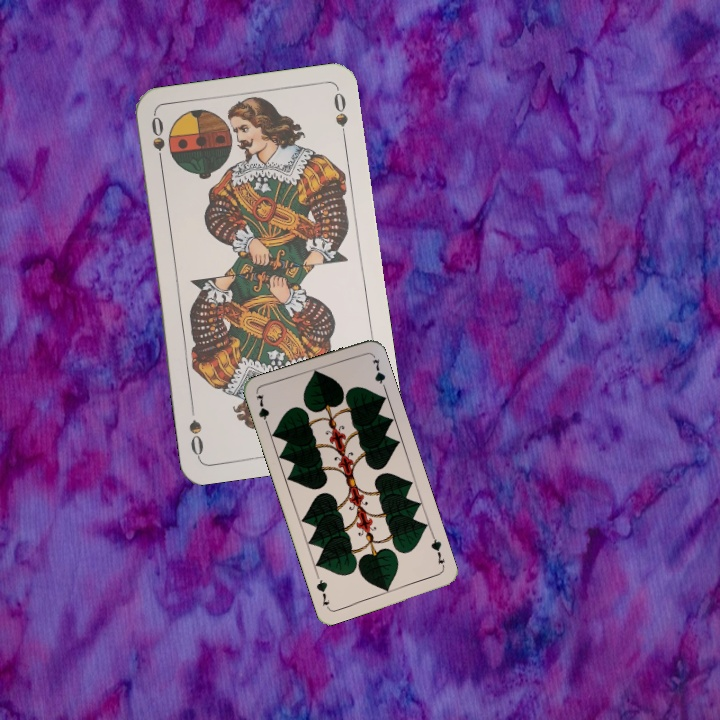G7: (252, 390, 272, 431), (427, 531, 447, 571)
SO: (147, 112, 168, 171)
